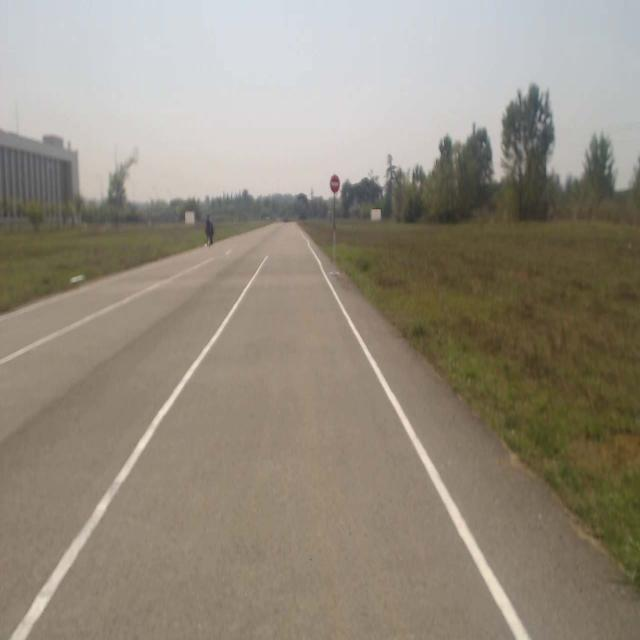girisyok: (330, 172, 340, 198)
